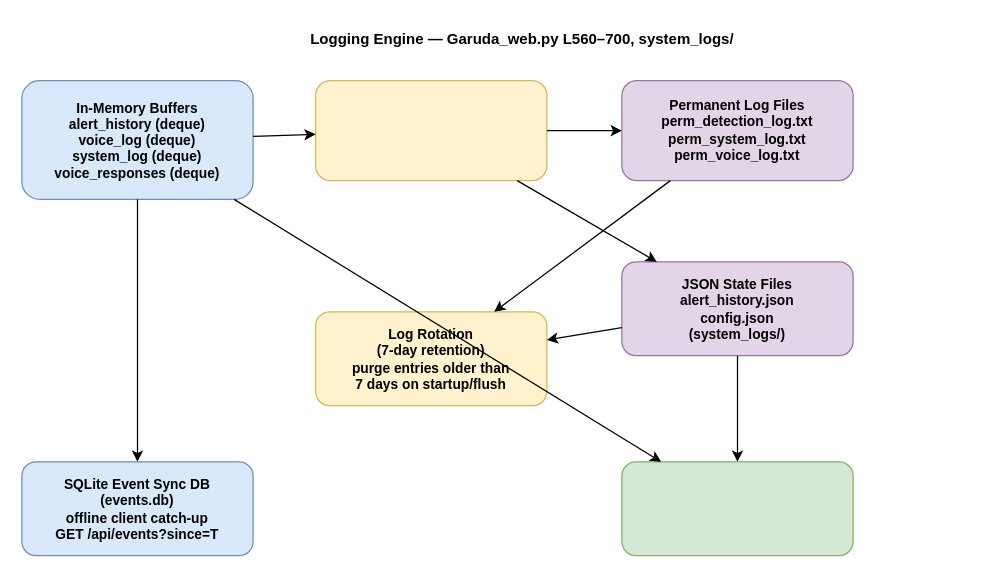
Image size: 981x578. Some labels were removed from this diagram. The centre of each missing label's shape, as x and y in pixels:
"Log API (GET /api/logs/*) serves from JSON files + in-memory buffers" belongs at point 737,508.
"Periodic Disk Flusher (daemon thread) writes buffers to disk every N seconds" belongs at point 430,130.
